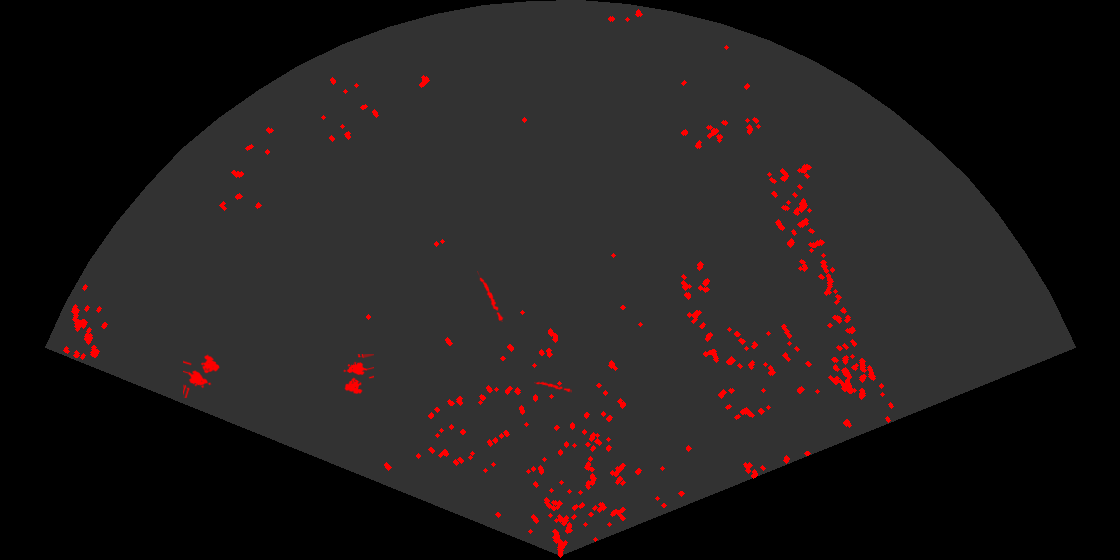cage: (183, 353, 221, 398), (342, 354, 374, 396)
chain: (477, 271, 505, 322), (534, 380, 572, 394)
